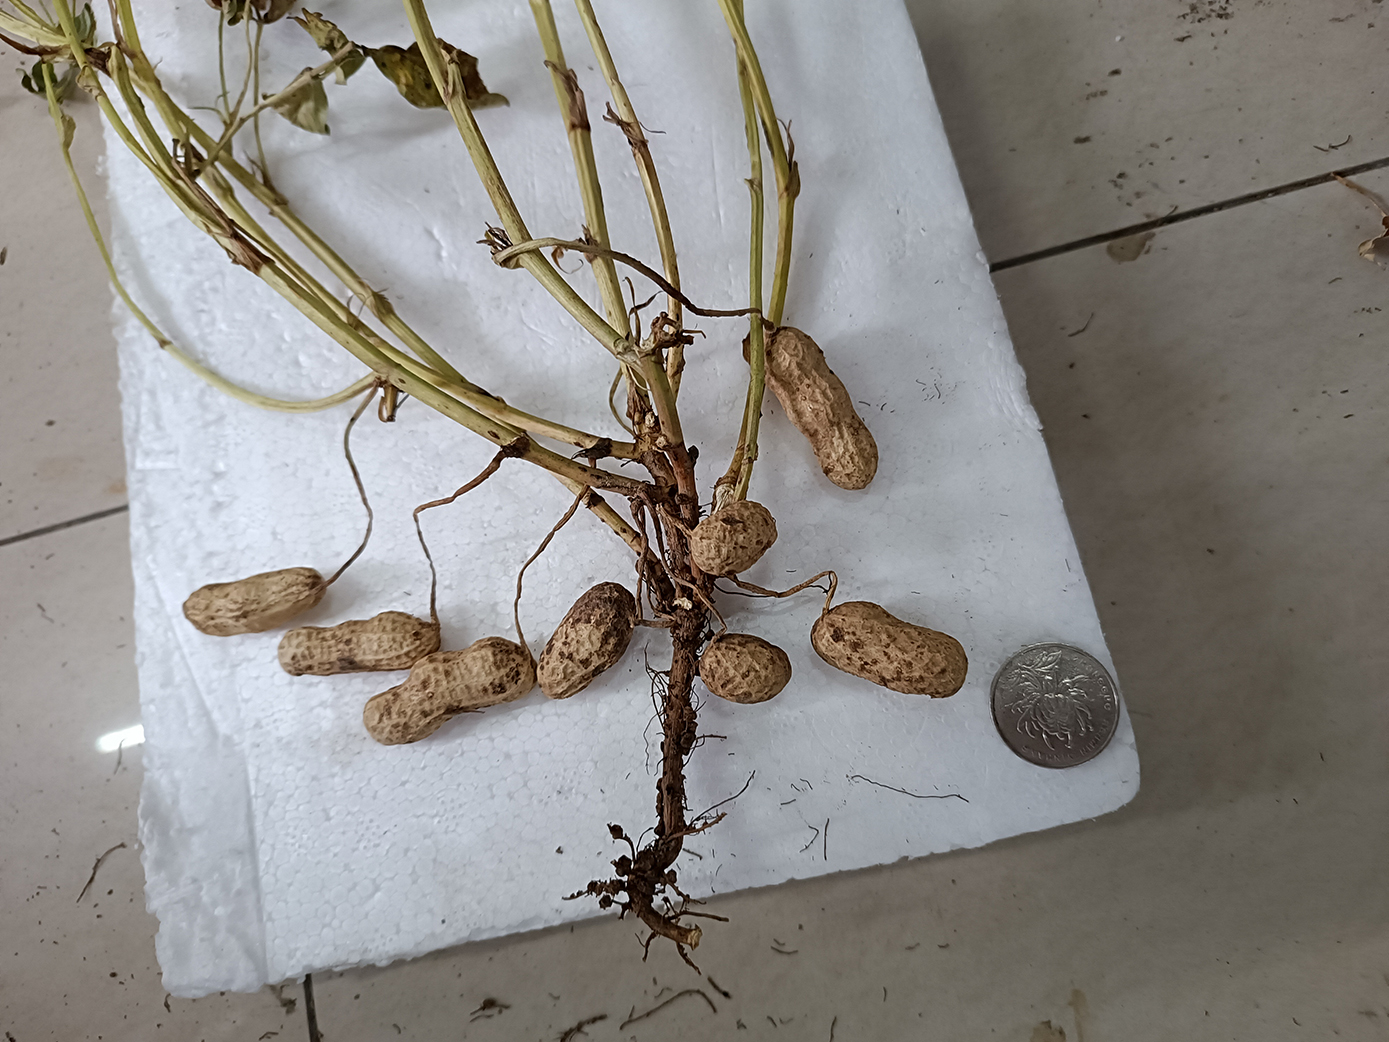h: (364, 635, 539, 746), (764, 329, 878, 493), (811, 602, 969, 699), (537, 582, 636, 699), (279, 610, 439, 679), (184, 568, 329, 636), (696, 634, 795, 705), (688, 502, 779, 576)
